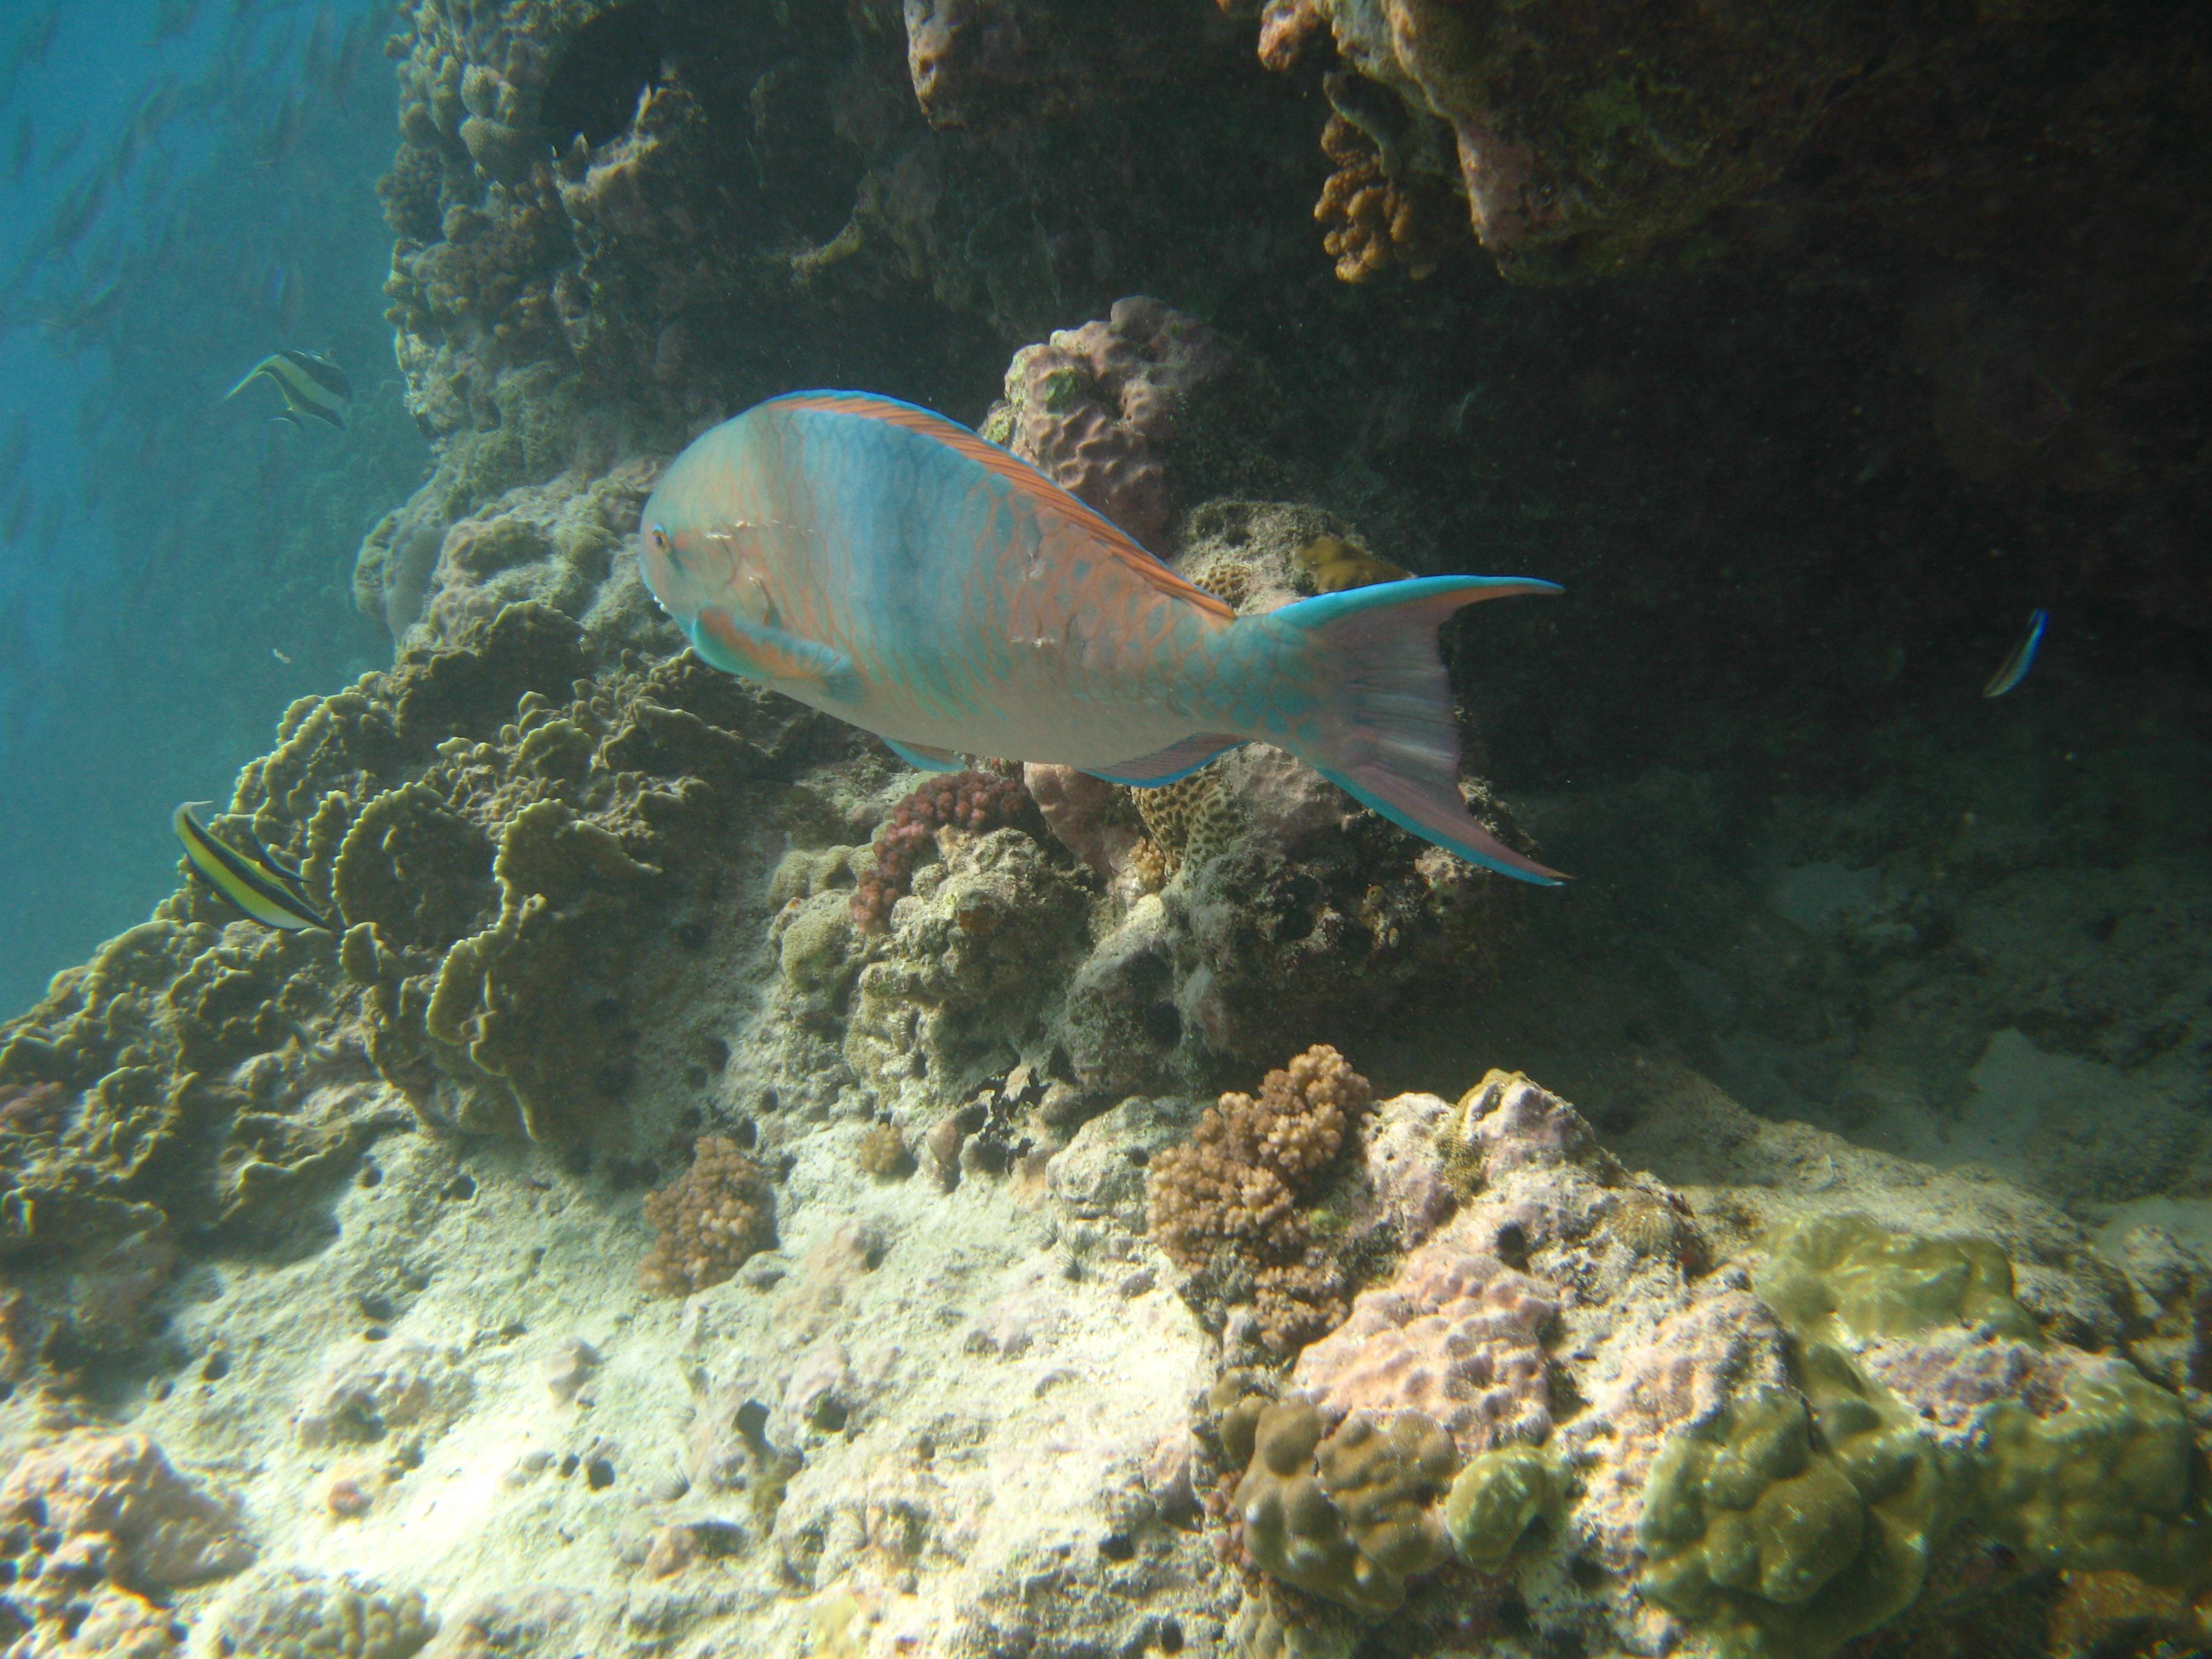Fish: (589, 385, 1604, 918)
